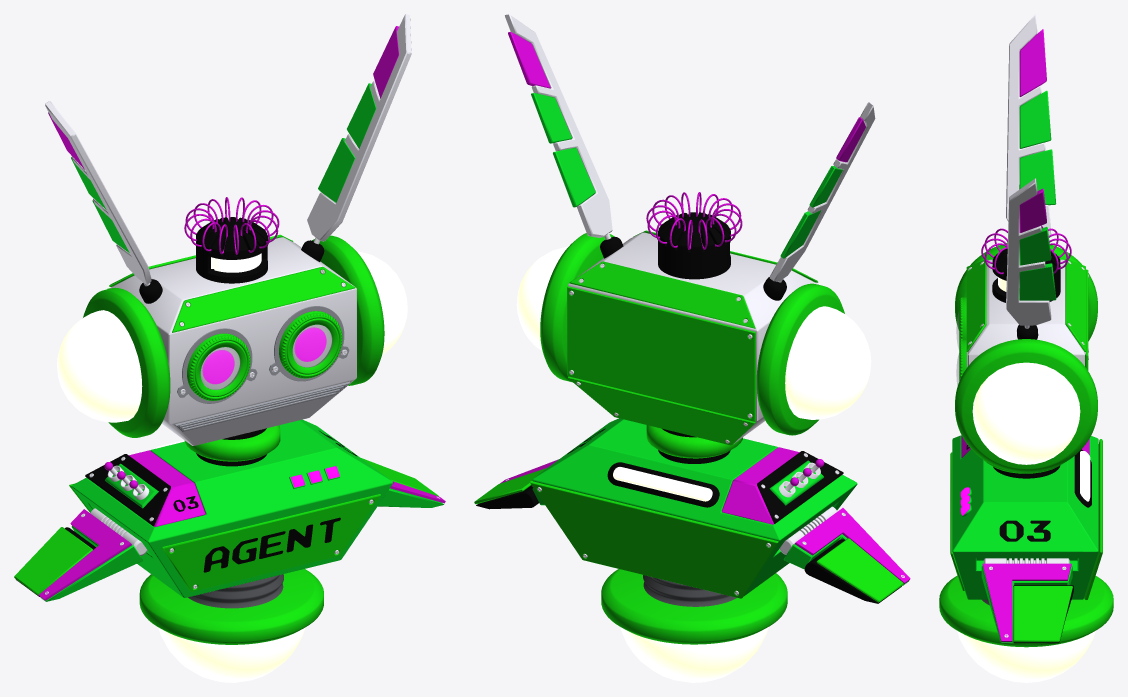
File: bee_bot8_green.glb
3 views of the same model, side by side, from view 1: azimuth 30°, elevation 25°; view 2: azimuth 150°, elevation 25°; view 3: azimuth 270°, elevation 25° (orthographic). The views are drawn at different scales.
Visible parts, largest first — view 1: Cube.082; view 2: Cube.082; view 3: Cube.082.
Boxes of the visible parts, bbox=[...] form: Cube.082: bbox=[14, 14, 445, 682]; Cube.082: bbox=[474, 14, 910, 682]; Cube.082: bbox=[939, 14, 1113, 682].
Bounding box in the file's own units: 0.6985 × 1.02 × 0.278.
